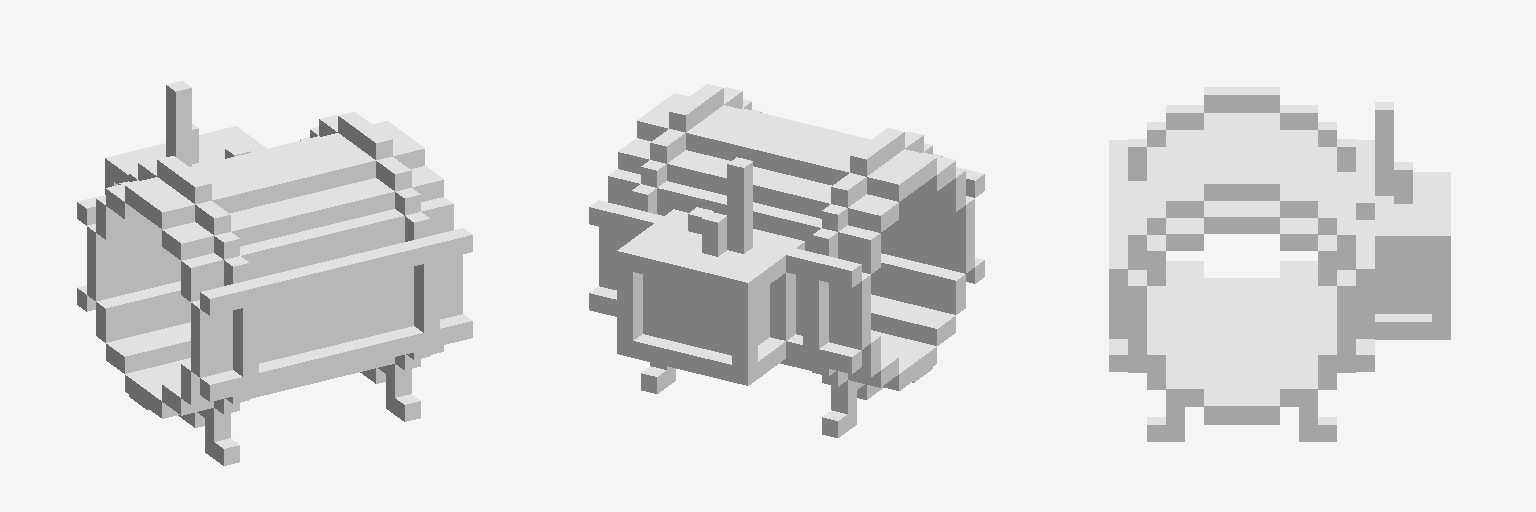
The model's file is tunnelKit_center_02_v1.obj.
3 renders of one model, left to right at view 1: azimuth 30°, elevation 25°; view 2: azimuth 150°, elevation 25°; view 3: azimuth 270°, elevation 25°, orthographic.
Parts seen in each view (by area): view 1: object 1; view 2: object 1; view 3: object 1.
Part boxes in pixels (x1,y1,x2,y2): object 1: (77,81,472,465); object 1: (589,84,984,437); object 1: (1109,87,1450,441).
Bounding box in the file's own units: 1.6 × 1.6 × 1.8.